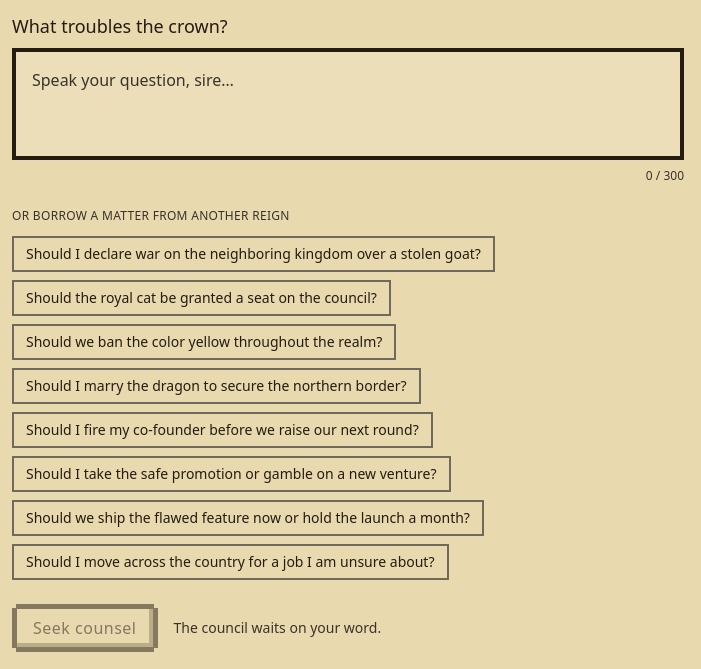
it: QuestionComposer › fills the field when an example prompt is clicked
Click the button "Should I declare war on the neighboring kingdom over a stolen goat?": (253, 254) x1=12 y1=236 x2=495 y2=272
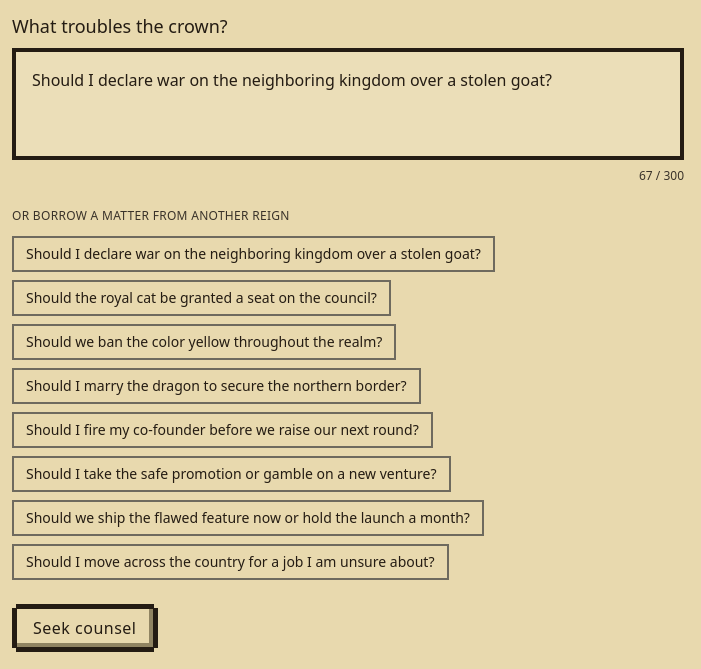
Expected: the text box holds "Should I declare war on the neighboring kingdom over a stolen goat?", x1=12 y1=48 x2=684 y2=160
